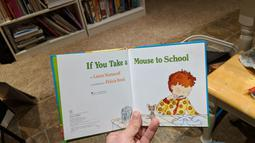text block: (83, 73, 130, 95), (66, 104, 100, 130)
